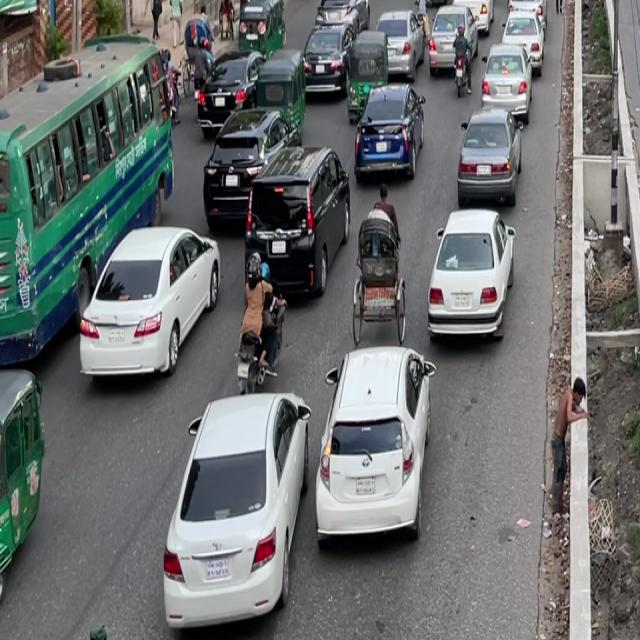car: (151, 380, 321, 627), (305, 327, 442, 561), (66, 207, 226, 398), (238, 136, 351, 310), (421, 197, 521, 356), (200, 97, 303, 234), (351, 80, 426, 191), (454, 98, 524, 216), (299, 14, 356, 104), (480, 38, 536, 126), (422, 0, 469, 87), (374, 0, 422, 80), (502, 0, 547, 73), (313, 0, 369, 44), (457, 0, 496, 39), (507, 0, 545, 12)
rickshaw: (0, 358, 56, 613), (344, 24, 389, 124), (252, 47, 308, 125), (423, 0, 458, 13)
